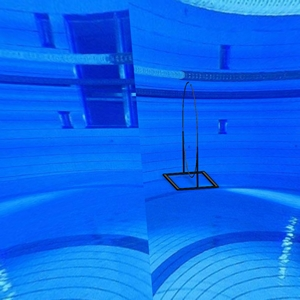circle: (162, 80, 221, 194)
